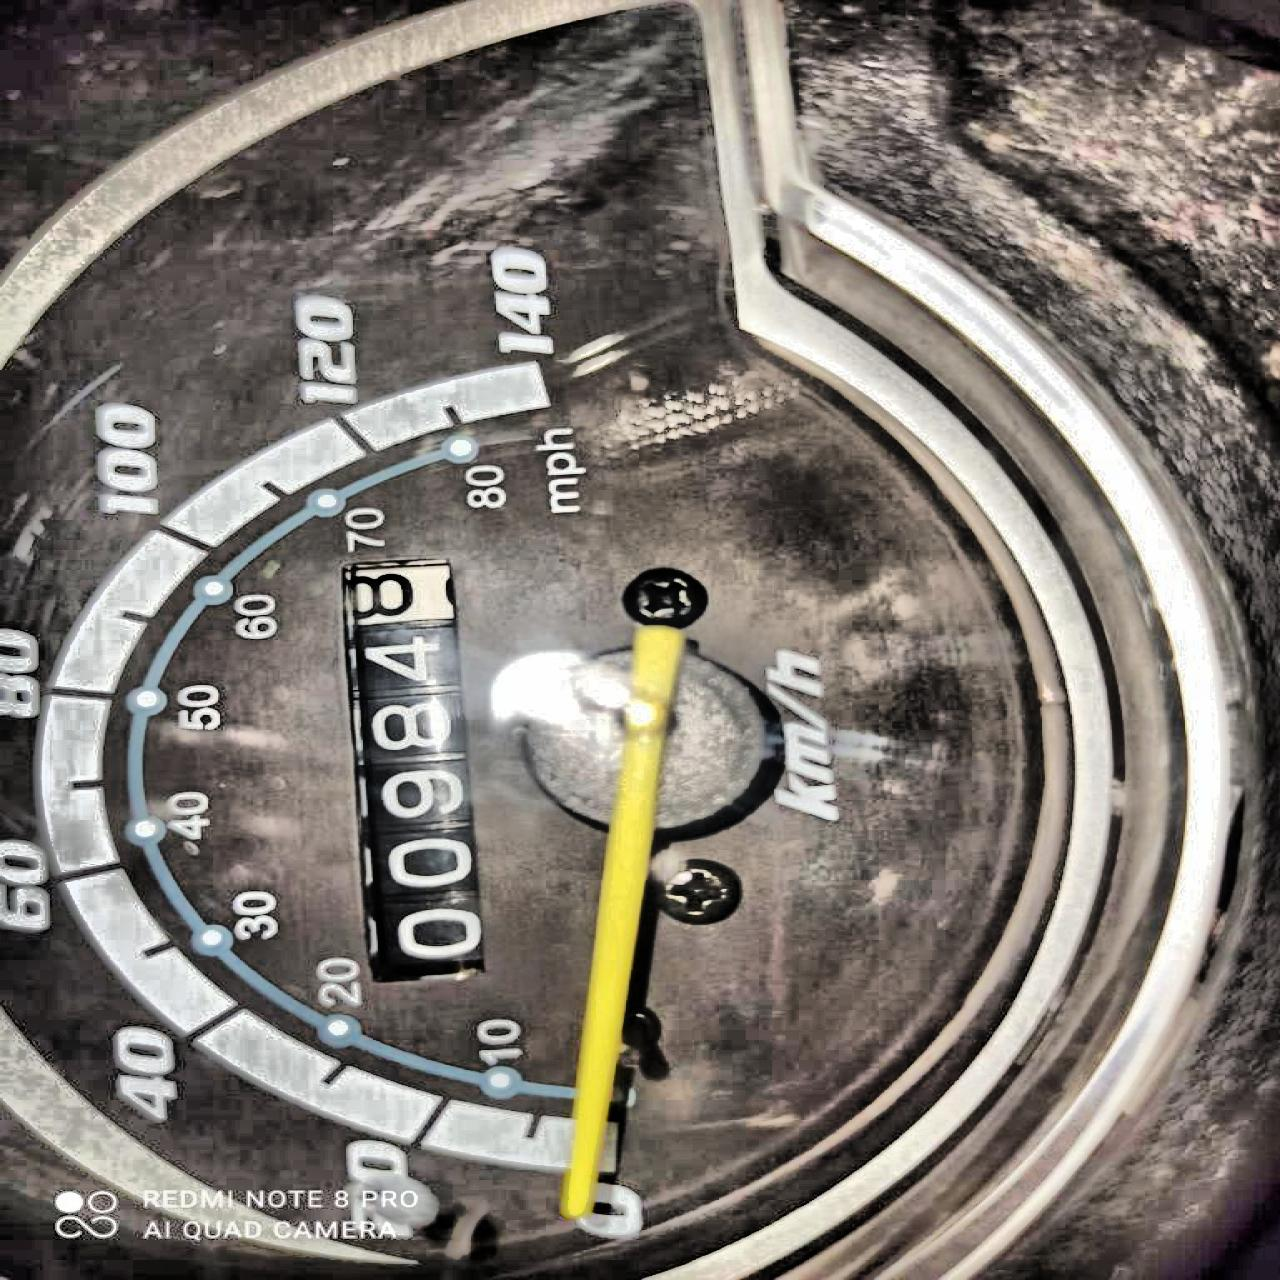0: (380, 899, 479, 964), (377, 835, 478, 886), (311, 951, 361, 981)
4: (361, 628, 448, 681)
8: (362, 693, 459, 748), (335, 567, 427, 620)
9: (372, 760, 468, 819)
odometer: (318, 559, 491, 985)
